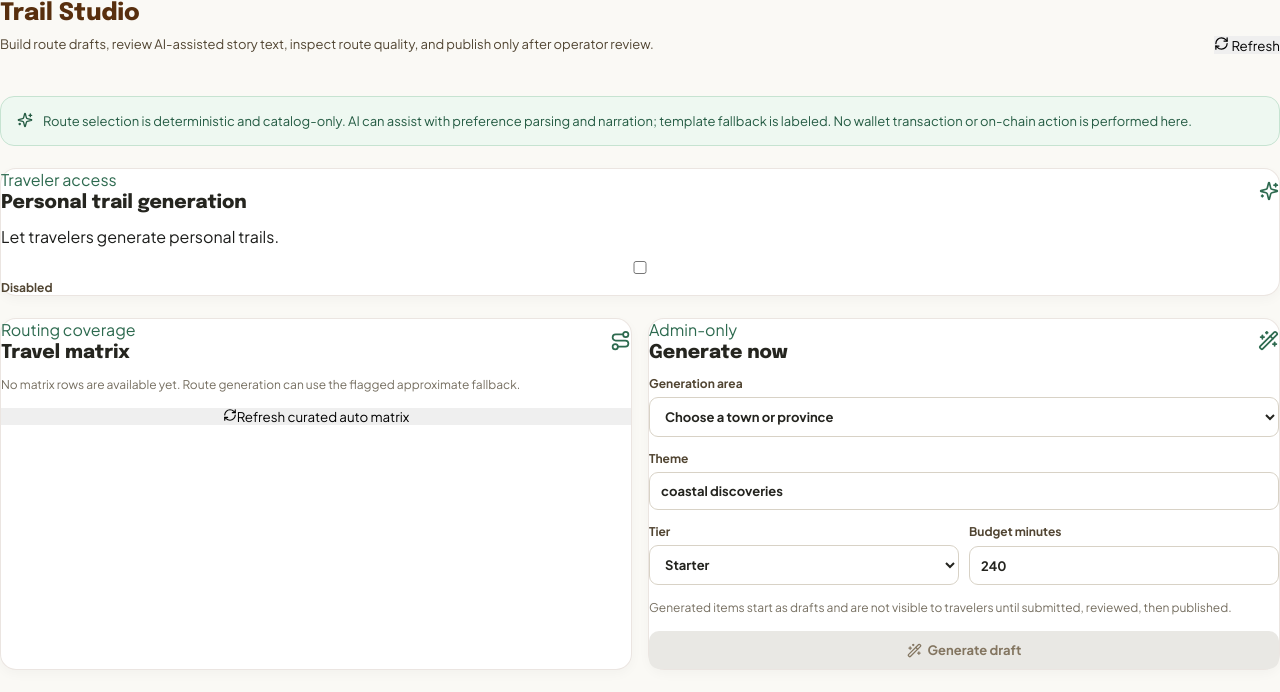
Scenario: TrailStudioPage › shows traveler personal trail generation off by default and saves the audited setting
Expected: the text "Let travelers generate personal trails." is shown, x1=1 y1=226 x2=279 y2=247
Click the checkbox at (640, 268), box x1=1 y1=261 x2=1279 y2=274
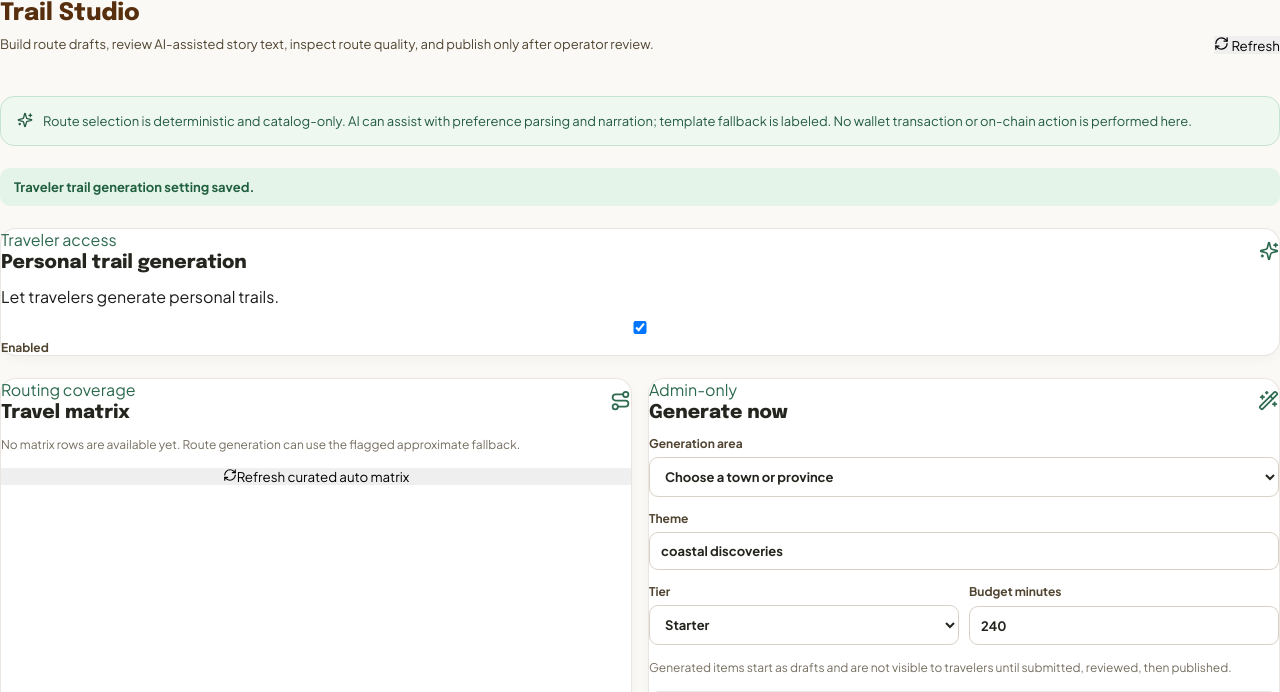
Result: the checkbox is checked at x1=1 y1=321 x2=1279 y2=334
Result: the text "Traveler trail generation setting saved." is shown at x1=0 y1=168 x2=1279 y2=206
